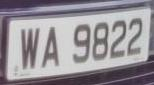2: (126, 13, 146, 59), (109, 15, 128, 63)
8: (91, 17, 111, 67)
9: (71, 19, 93, 71)
A: (41, 21, 62, 76)
W: (18, 23, 42, 77)
